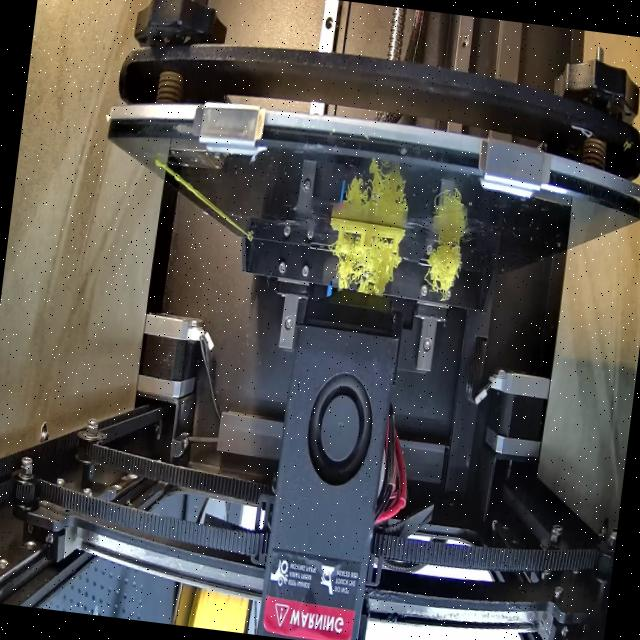spaghetti: (325, 234, 406, 303), (419, 235, 468, 308)
